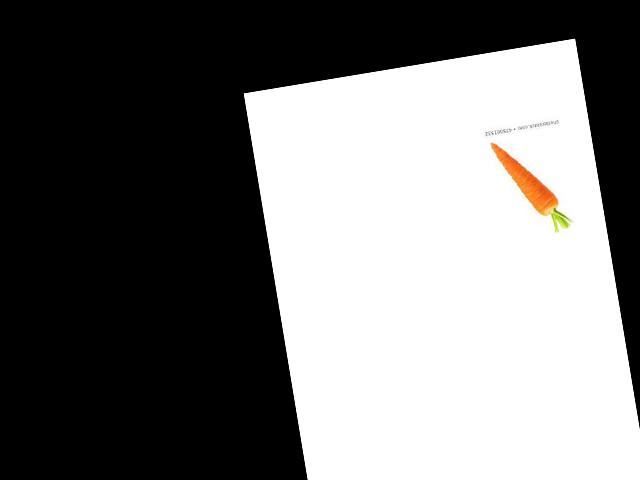carrot: (485, 129, 562, 225)
